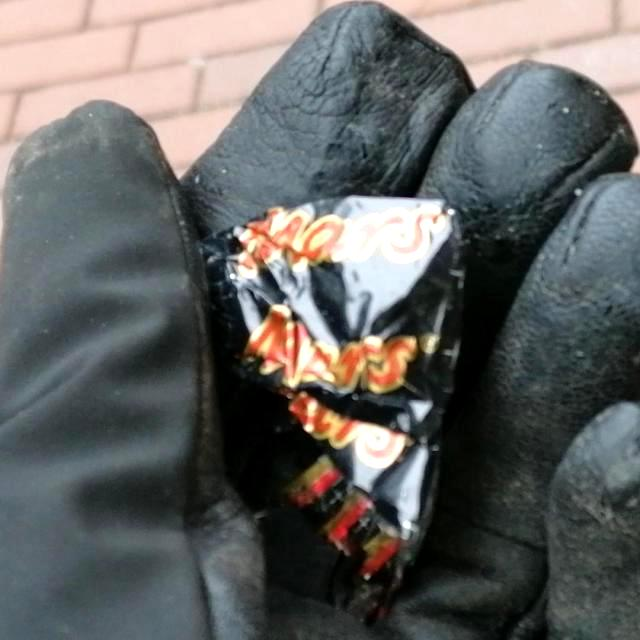Plastic: (192, 188, 470, 588)
